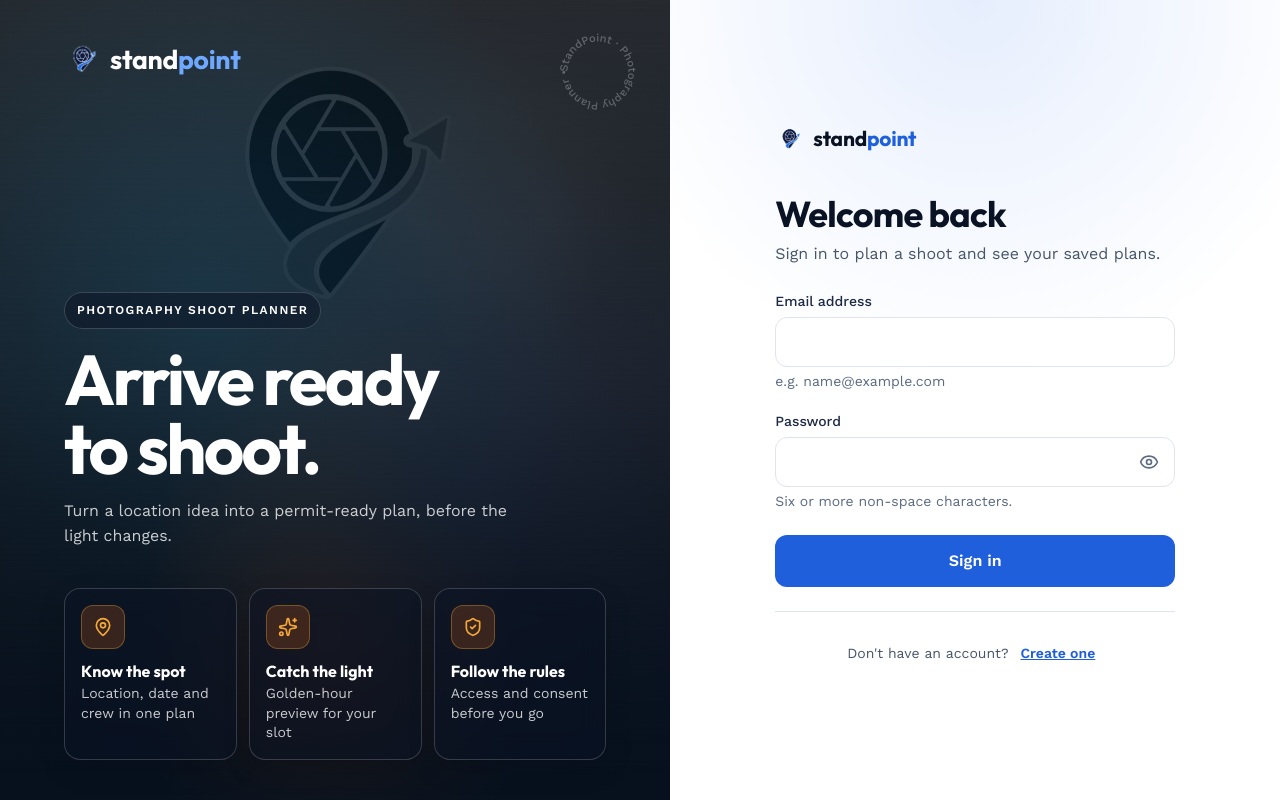
LoginScreen › keeps the welcome copy and updates account-mode controls in signup mode
Click the button "Create one" at (1058, 654), box [1012, 632, 1103, 676]
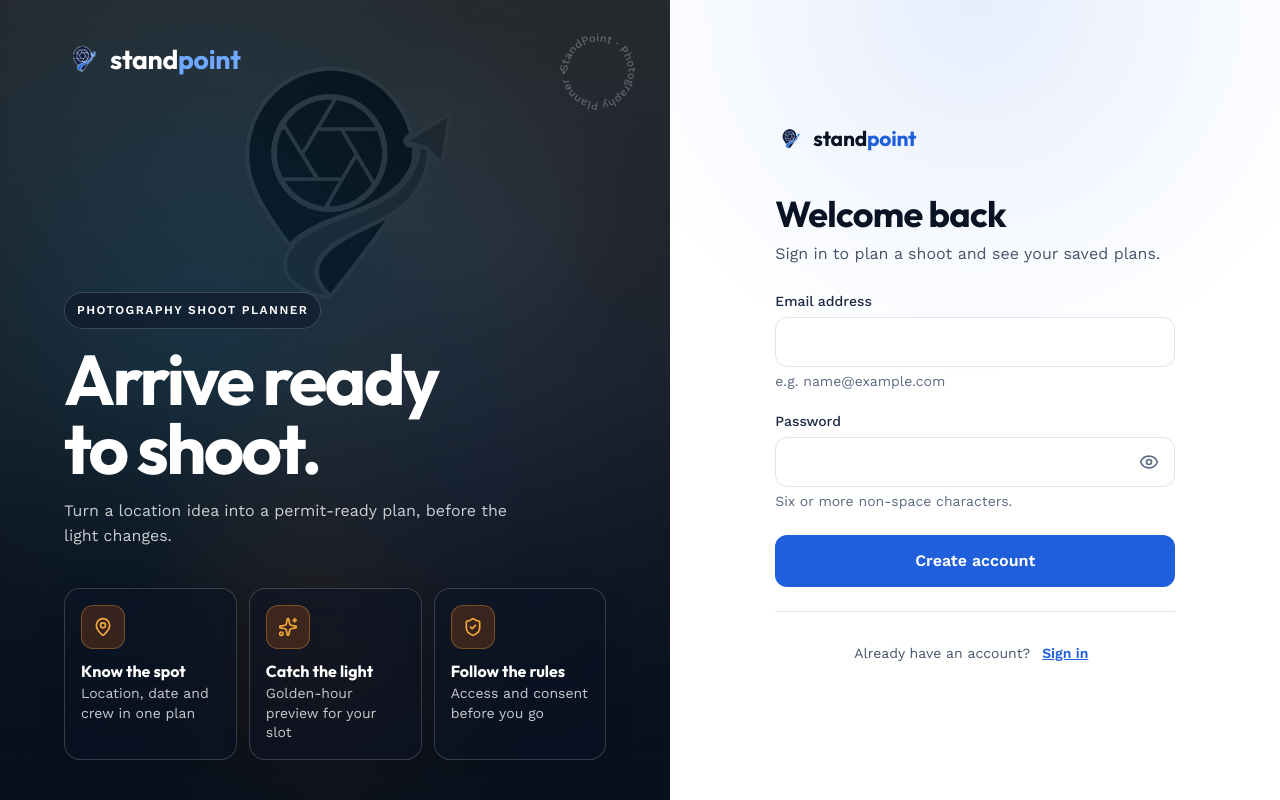
Expected: the heading "Welcome back" is shown, [775, 191, 1006, 236]
Expected: the text "Already have an account?" is shown, [854, 645, 1030, 661]
Expected: the button "Sign in" is shown, [1034, 632, 1096, 676]
